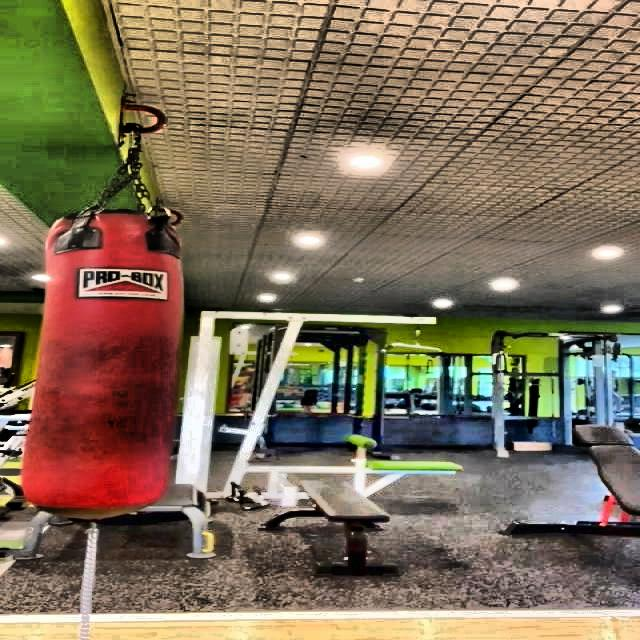boxing-bag: (31, 102, 185, 526)
